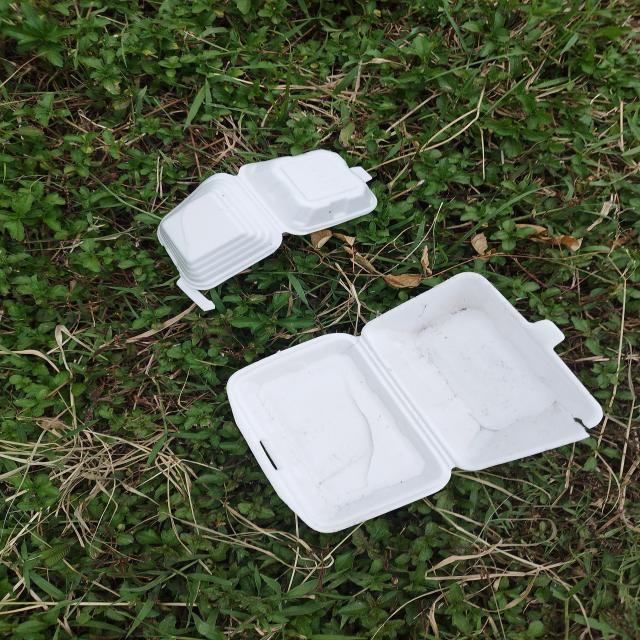foam box: (225, 271, 604, 533), (158, 150, 379, 311)
